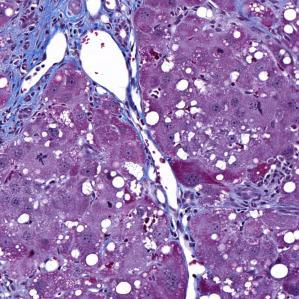fibrosis: (4, 5, 86, 82)
